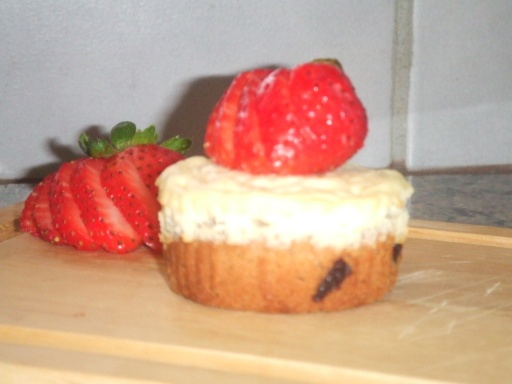background: (14, 34, 332, 187)
